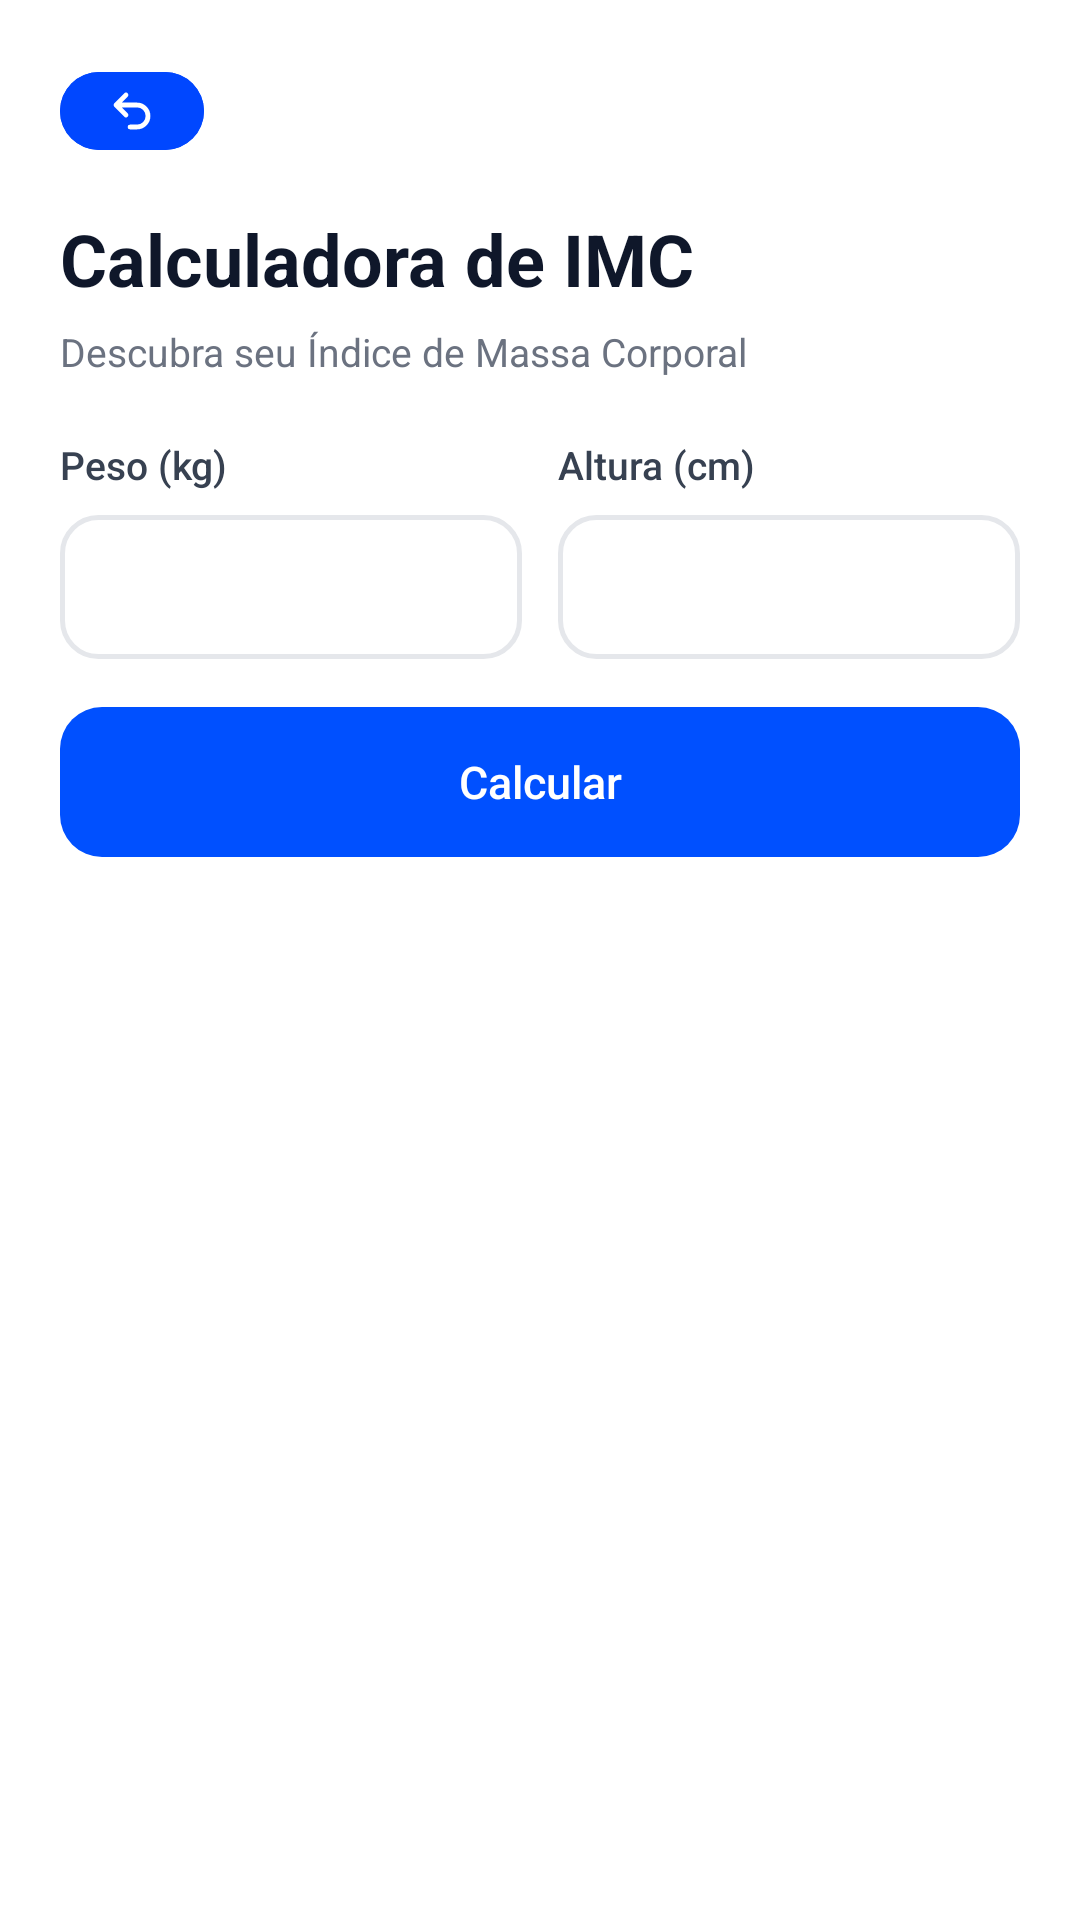

Icon click points for this 1080*1920 phone screenshot, format (x,y):
Voltar: (132,111)
